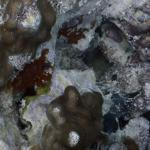dead: (3, 6, 147, 147)
